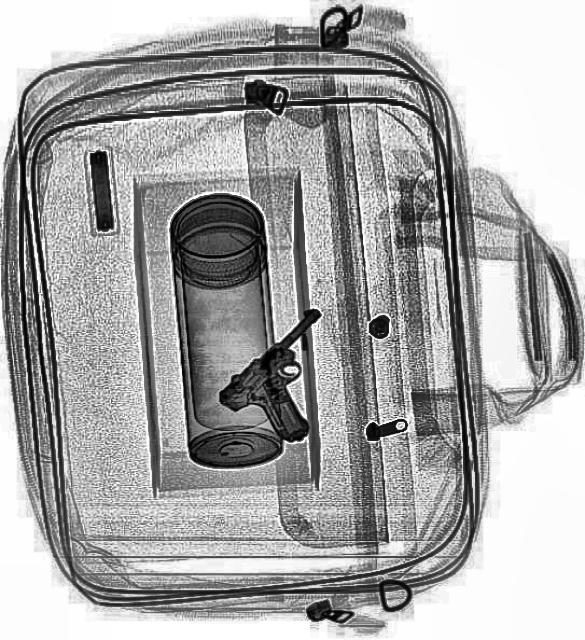Gun: (212, 300, 374, 462)
